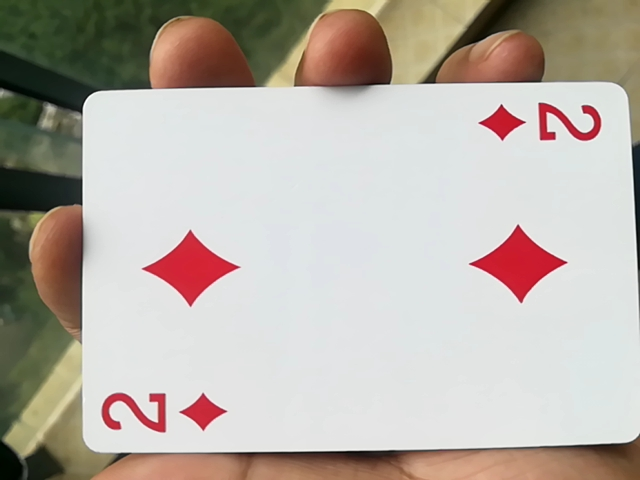fk 2: (64, 88, 634, 469)
